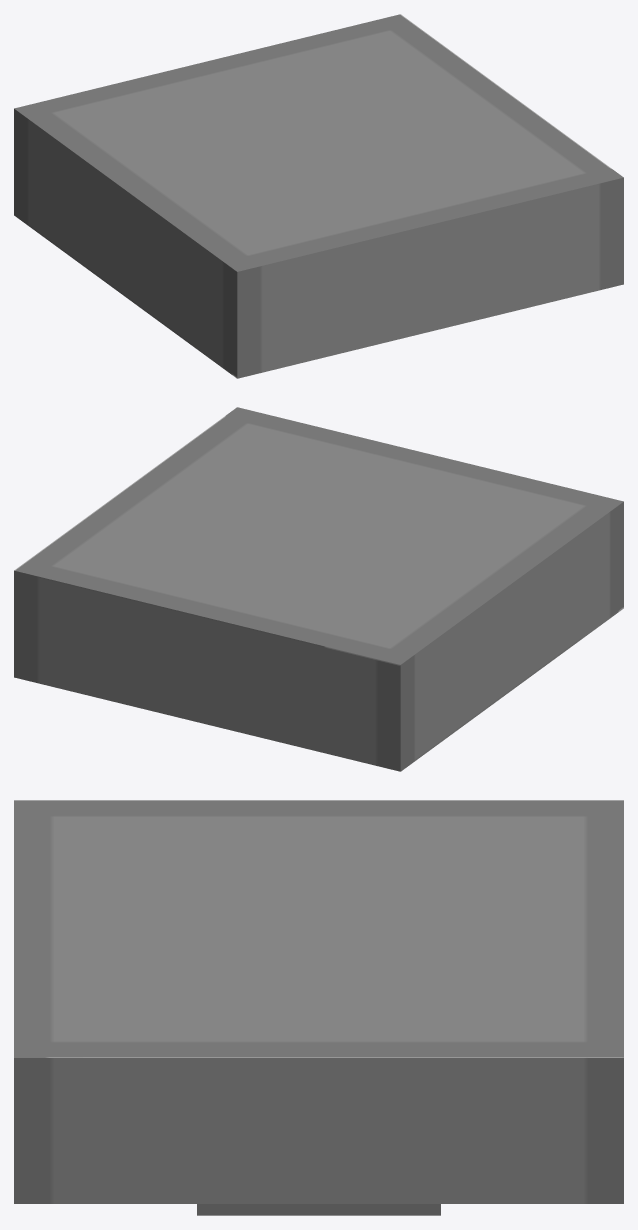
Rendered from Heater.obj.
3 renders of one model, top to bottom at view 1: azimuth 30°, elevation 25°; view 2: azimuth 150°, elevation 25°; view 3: azimuth 270°, elevation 25°, orthographic. The views are drawn at different scales.
Parts seen in each view (by area): view 1: Heater_Cube; view 2: Heater_Cube; view 3: Heater_Cube.
Boxes of the visible parts, box(x1,y1,x2,y2) form: Heater_Cube: box(14, 14, 623, 378); Heater_Cube: box(14, 407, 623, 771); Heater_Cube: box(14, 800, 623, 1215).
Bounding box in the file's own units: 1 × 0.425 × 1.
2 materials, 2 textured.
